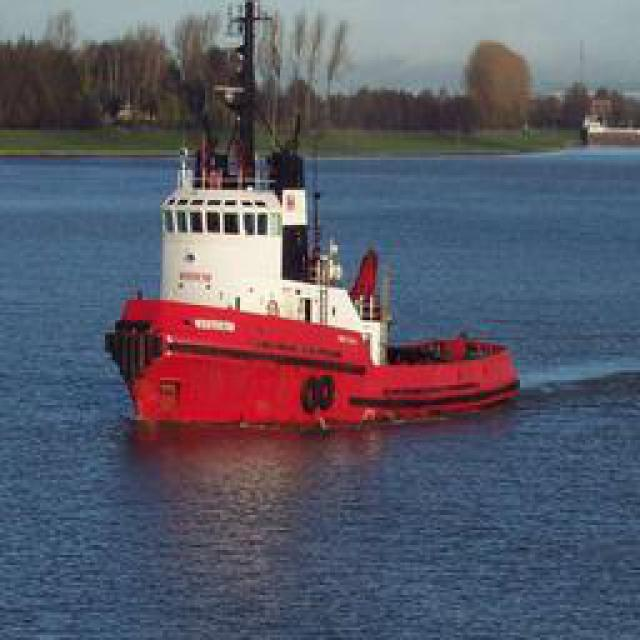Ship: (105, 31, 513, 416)
